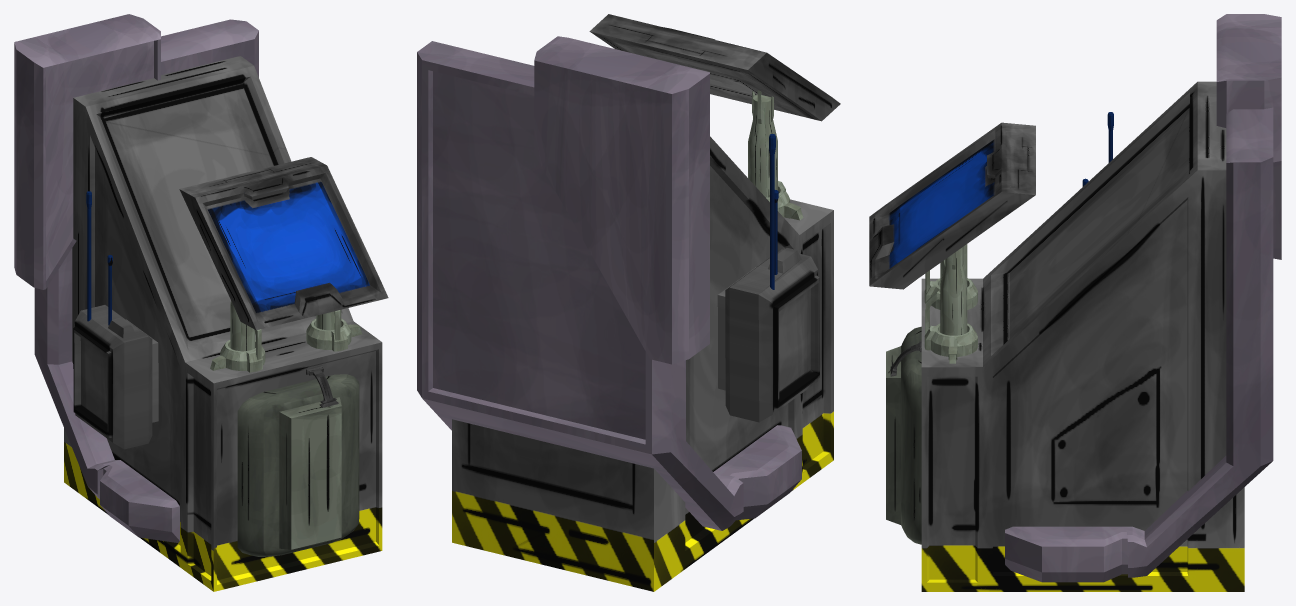
File: BackgroundConsoleObject.FBX
3 renders of one model, left to right at view 1: azimuth 30°, elevation 25°; view 2: azimuth 150°, elevation 25°; view 3: azimuth 270°, elevation 25°, orthographic. The views are drawn at different scales.
Visible parts, largest first — view 1: Box001, Object002, Object003, Cylinder001, Object001, Cylinder006, Cylinder003, Cylinder004, Box004; view 2: Object001, Box001, Object003, Object002, Cylinder006, Cylinder004; view 3: Box001, Object001, Object002, Object003, Cylinder001, Cylinder003, Cylinder006.
Part boxes in pixels (x1,y1,x2,y2): Box001: [64, 56, 382, 591]; Object002: [179, 157, 388, 330]; Object003: [14, 14, 160, 289]; Cylinder001: [237, 374, 359, 556]; Object001: [34, 19, 258, 542]; Cylinder006: [210, 301, 265, 372]; Cylinder003: [306, 310, 362, 351]; Cylinder004: [86, 191, 91, 321]; Box004: [306, 365, 338, 407]; Object001: [417, 41, 801, 530]; Box001: [452, 136, 833, 591]; Object003: [534, 36, 709, 364]; Object002: [589, 14, 840, 121]; Cylinder006: [748, 90, 803, 220]; Cylinder004: [769, 134, 775, 289]; Box001: [921, 81, 1244, 591]; Object001: [1005, 107, 1273, 582]; Object002: [869, 122, 1035, 289]; Object003: [1216, 14, 1281, 259]; Cylinder001: [886, 326, 921, 544]; Cylinder003: [924, 246, 977, 363]; Cylinder006: [924, 244, 977, 309].
Size of the model in its own units: 27.79 by 37.69 by 47.3.
8 materials, 8 textured.
